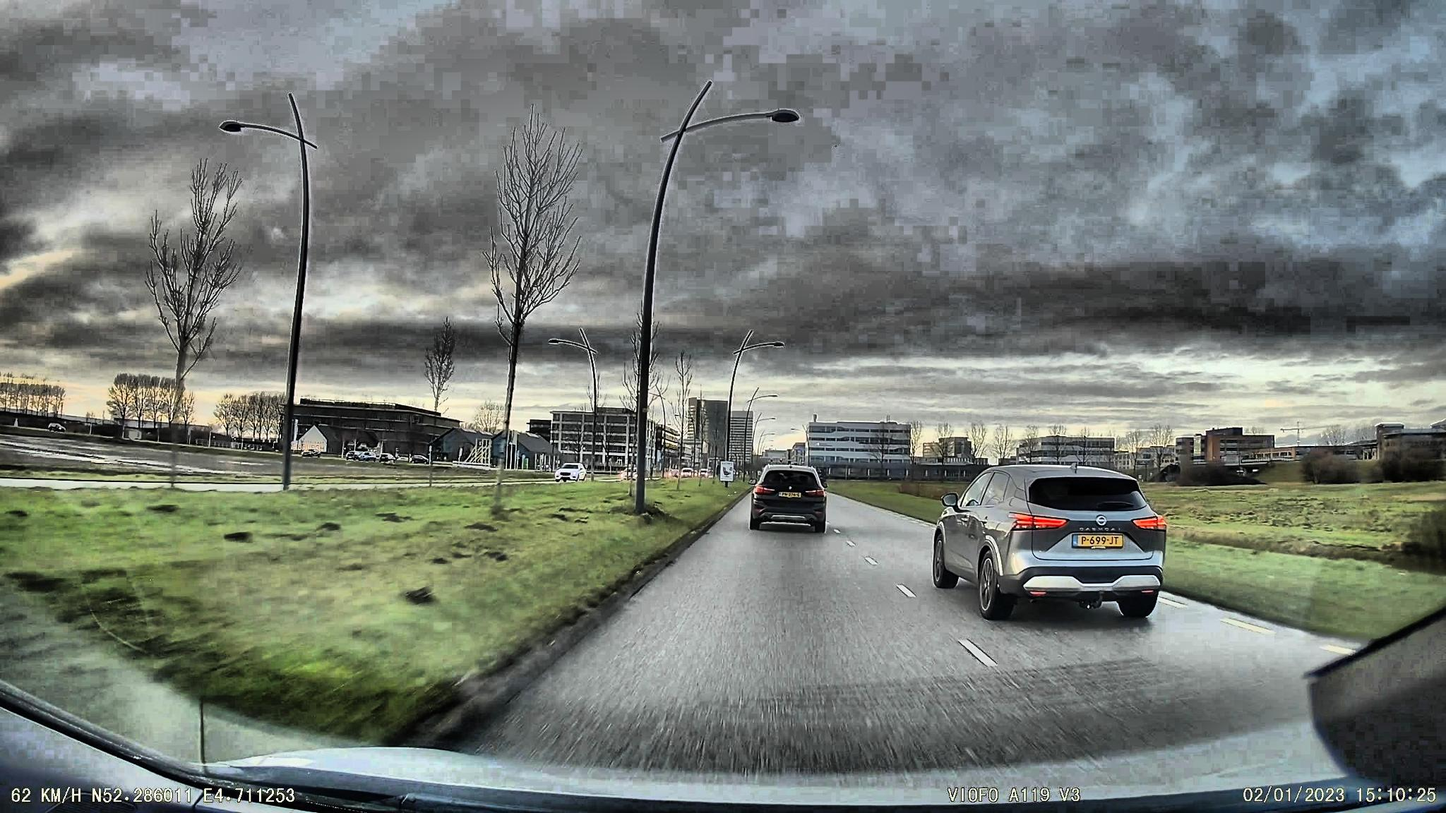Roads: (379, 498, 1379, 810)
